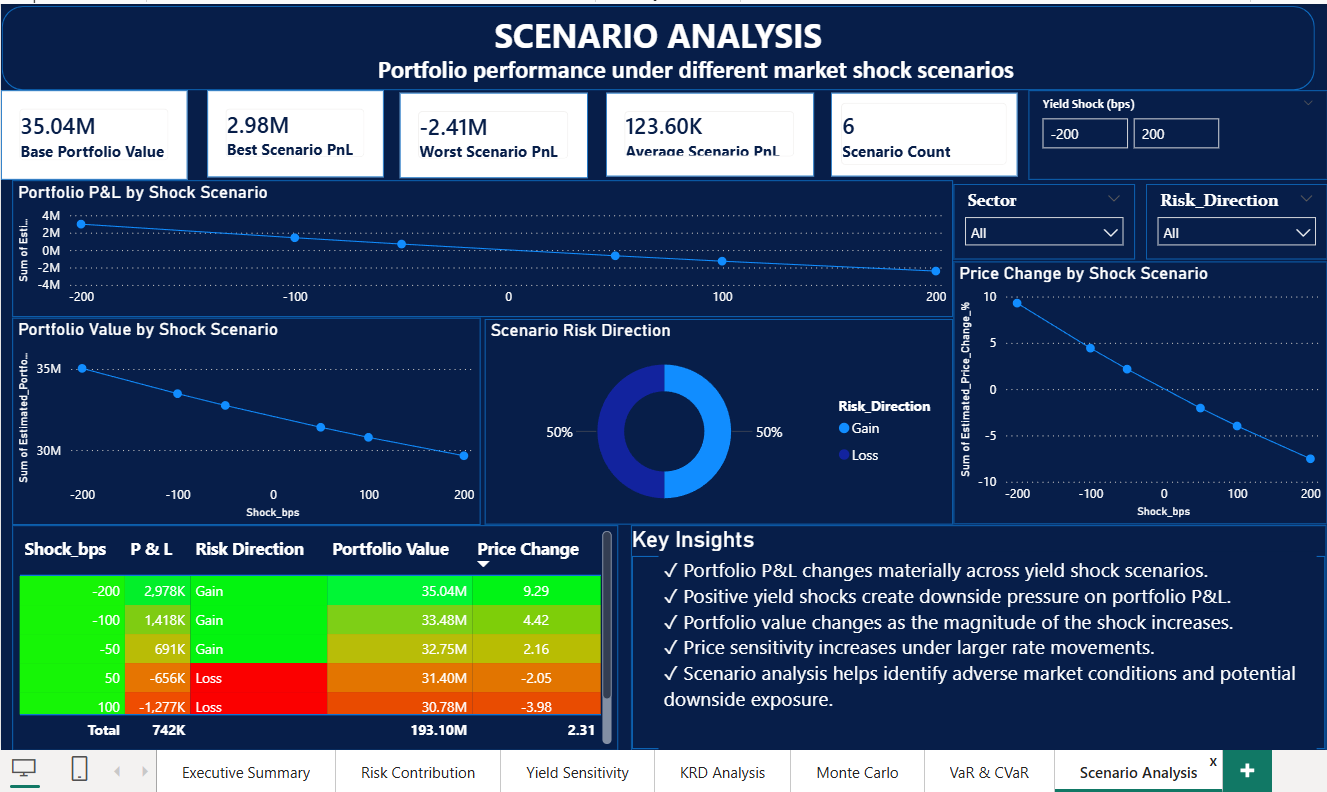

The dashboard page shown, as its layout file describes it:
{"tool":"powerbi","page":{"name":"Scenario Analysis","canvas":[1280,720],"ordinal":6},"visuals":[{"type":"shape","box":[0,1.2,1269.2,83.2],"z":0},{"type":"textbox","title":"Portfolio performance under different market shock scenarios","box":[179.7,48.9,981.8,28.4],"z":1000},{"type":"cardVisual","fields":{"Data":["Portfolio Summary.Base Portfolio Value"]},"box":[0,83.7,180.3,86.6],"z":2000},{"type":"lineChart","title":"Portfolio P&L by Shock Scenario","fields":{"Category":["Scenario Summary.Shock_bps"],"Y":["Sum(Scenario Summary.Estimated_PnL_INR)"]},"box":[11,170.2,907.8,132.4],"z":3000},{"type":"cardVisual","fields":{"Data":["Portfolio Summary.Worst Scenario PnL"]},"box":[385.2,85.1,181.8,82.2],"z":4000},{"type":"cardVisual","fields":{"Data":["Portfolio Summary.Average Scenario PnL"]},"box":[584.3,85.1,200.5,80.8],"z":5000},{"type":"cardVisual","fields":{"Data":["Portfolio Summary.Scenario Count"]},"box":[800.7,85.1,180.3,80.8],"z":6000},{"type":"lineChart","title":"Portfolio Value by Shock Scenario","fields":{"Category":["Scenario Summary.Shock_bps"],"Y":["Sum(Scenario Summary.Estimated_Portfolio_Value)"]},"box":[11,302.6,452.3,200.2],"z":7000},{"type":"lineChart","title":"Price Change by Shock Scenario","fields":{"Category":["Scenario Summary.Shock_bps"],"Y":["Sum(Scenario Summary.Estimated_Price_Change_%)"]},"box":[918.8,249,360.9,253.7],"z":8000},{"type":"donutChart","title":"Scenario Risk Direction","fields":{"Category":["Scenario Summary.Risk_Direction"],"Y":["Portfolio Summary.Total Scenarios"]},"box":[466.5,304.2,452.3,198.6],"z":9000},{"type":"tableEx","title":"Price Change Across Scenarios","fields":{"Values":["Scenario Summary.Shock_bps","Sum(Scenario Summary.Estimated_PnL_INR)","Scenario Summary.Risk_Direction","Sum(Scenario Summary.Estimated_Portfolio_Value)","Sum(Scenario Summary.Estimated_Price_Change_%)"]},"box":[11,502.7,584.7,217.5],"z":10000},{"type":"slicer","fields":{"Values":["Scenario Summary.Shock_bps"]},"box":[991.3,83.5,288.4,86.7],"z":11000},{"type":"slicer","fields":{"Values":["Scenario Summary.Risk_Direction"]},"box":[1105.1,173.4,174.9,72.5],"z":12000},{"type":"slicer","fields":{"Values":["Sector Risk.Sector"]},"box":[918.8,173.4,174.9,72.5],"z":13000},{"type":"shape","title":"Key Insights","box":[608.3,502.7,671.4,217.5],"z":14000},{"type":"textbox","box":[635.1,528,635.1,192.3],"z":15000},{"type":"cardVisual","fields":{"Data":["Portfolio Summary.Best Scenario PnL"]},"box":[199.1,83.7,170.2,83.7],"z":16000}]}

Visuals, with their boxes on the page's 1280x720 design canvas (x1, y1, x2, y2). These are canvas units, not pixel positions in the 1327x792 screenshot, which may show the page scaled, cropped or inside an application window:
shape: detection(0, 1, 1269, 84)
"Portfolio performance under different market shock scenarios" textbox: detection(180, 49, 1162, 77)
cardVisual - Portfolio Summary.Base Portfolio Value: detection(0, 84, 180, 170)
"Portfolio P&L by Shock Scenario" lineChart: detection(11, 170, 919, 303)
cardVisual - Portfolio Summary.Worst Scenario PnL: detection(385, 85, 567, 167)
cardVisual - Portfolio Summary.Average Scenario PnL: detection(584, 85, 785, 166)
cardVisual - Portfolio Summary.Scenario Count: detection(801, 85, 981, 166)
"Portfolio Value by Shock Scenario" lineChart: detection(11, 303, 463, 503)
"Price Change by Shock Scenario" lineChart: detection(919, 249, 1280, 503)
"Scenario Risk Direction" donutChart: detection(466, 304, 919, 503)
"Price Change Across Scenarios" tableEx: detection(11, 503, 596, 720)
slicer - Scenario Summary.Shock_bps: detection(991, 84, 1280, 170)
slicer - Scenario Summary.Risk_Direction: detection(1105, 173, 1280, 246)
slicer - Sector Risk.Sector: detection(919, 173, 1094, 246)
"Key Insights" shape: detection(608, 503, 1280, 720)
textbox: detection(635, 528, 1270, 720)
cardVisual - Portfolio Summary.Best Scenario PnL: detection(199, 84, 369, 167)
